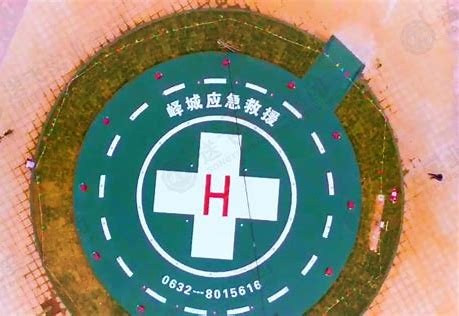H: (204, 175, 232, 217)
